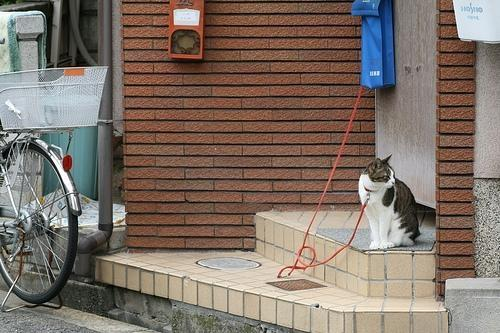bicycle: (0, 119, 82, 311)
